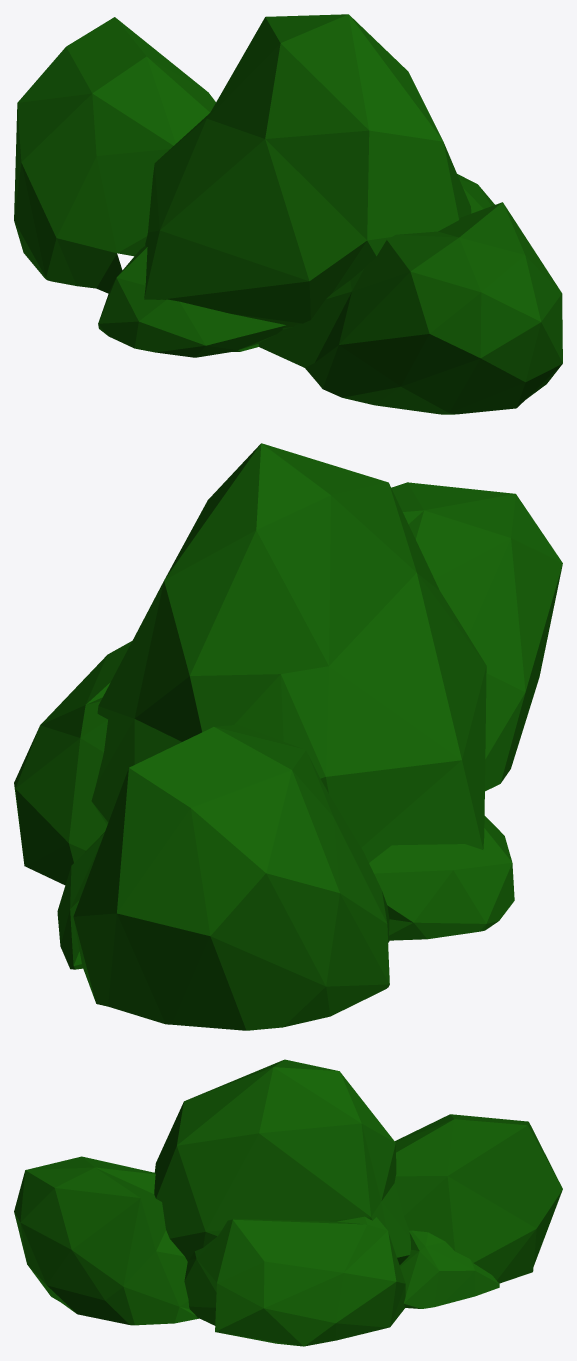
File: Buske3.fbx
The picture shows the model from 3 angles, top to bottom: view 1: azimuth 30°, elevation 25°; view 2: azimuth 150°, elevation 25°; view 3: azimuth 270°, elevation 25°; orthographic projection. The views are drawn at different scales.
Visible parts, largest first — view 1: Icosphere.001; view 2: Icosphere.001; view 3: Icosphere.001.
Part boxes in pixels (x1,y1,x2,y2): Icosphere.001: (14,14,562,414); Icosphere.001: (14,443,562,1030); Icosphere.001: (14,1059,562,1346).
Size of the model in its own units: 3.35 by 2.55 by 5.72.
